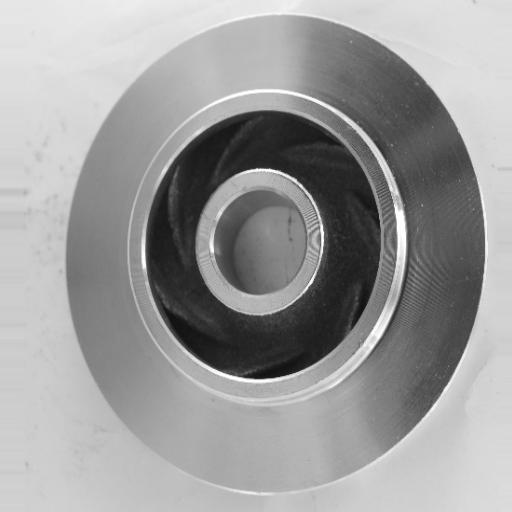polished_casting: (60, 11, 487, 497)
